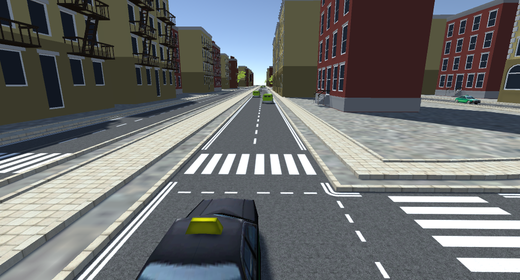centerstrip: (336, 199, 399, 280), (249, 95, 264, 158)
sidestripe: (81, 181, 174, 278), (273, 103, 308, 152), (322, 181, 373, 199)
